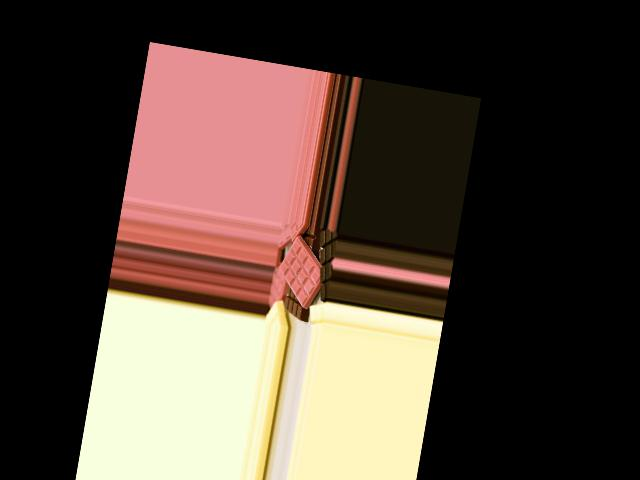chocolate: (271, 232, 338, 311)
